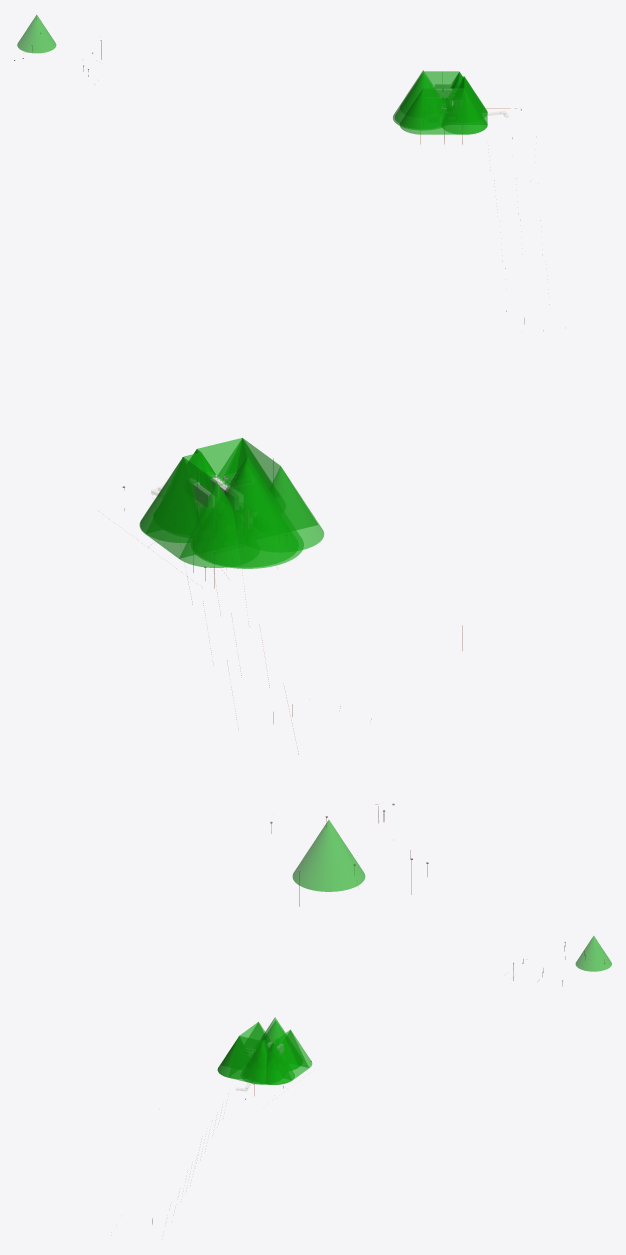
The picture shows the model from 3 angles, top to bottom: view 1: azimuth 30°, elevation 25°; view 2: azimuth 150°, elevation 25°; view 3: azimuth 270°, elevation 25°; orthographic projection. The views are drawn at different scales.
Parts seen in each view (by area): view 1: 1tFpAojzP2WfqB6u0kBTyU, 1albLpCDz668fCfX9H6x0C, 1tFpAojzP2WfqB6u0kBTZu, 0LncxTrCT71Og$vbJJ$8cW, 1tFpAojzP2WfqB6u0kBTY$; view 2: 1tFpAojzP2WfqB6u0kBTY$, 1albLpCDz668fCfX9H6x0C, 1tFpAojzP2WfqB6u0kBTyU, 1tFpAojzP2WfqB6u0kBTuD, 1tFpAojzP2WfqB6u0kBTYg, 0LncxTrCT71Og$vbJJ$8cW, 1tFpAojzP2WfqB6u0kBTZu; view 3: 1tFpAojzP2WfqB6u0kBTZu, 1tFpAojzP2WfqB6u0kBTY$, 1tFpAojzP2WfqB6u0kBTyU, 1tFpAojzP2WfqB6u0kBTYg, 0LncxTrCT71Og$vbJJ$8cW, 1tFpAojzP2WfqB6u0kBTZ5, 1albLpCDz668fCfX9H6x0C.
Boxes of the visible parts, x1,y1,x2,y2 form: 1tFpAojzP2WfqB6u0kBTyU: [399, 88, 487, 134]; 1albLpCDz668fCfX9H6x0C: [393, 70, 445, 130]; 1tFpAojzP2WfqB6u0kBTZu: [441, 76, 487, 134]; 0LncxTrCT71Og$vbJJ$8cW: [17, 14, 56, 53]; 1tFpAojzP2WfqB6u0kBTY$: [400, 71, 461, 106]; 1tFpAojzP2WfqB6u0kBTY$: [139, 457, 243, 567]; 1albLpCDz668fCfX9H6x0C: [197, 456, 303, 568]; 1tFpAojzP2WfqB6u0kBTyU: [218, 438, 323, 551]; 1tFpAojzP2WfqB6u0kBTuD: [225, 463, 296, 567]; 1tFpAojzP2WfqB6u0kBTYg: [140, 452, 217, 542]; 0LncxTrCT71Og$vbJJ$8cW: [292, 820, 365, 891]; 1tFpAojzP2WfqB6u0kBTZu: [189, 438, 271, 488]; 1tFpAojzP2WfqB6u0kBTZu: [217, 1036, 267, 1084]; 1tFpAojzP2WfqB6u0kBTY$: [265, 1029, 312, 1084]; 1tFpAojzP2WfqB6u0kBTyU: [217, 1022, 265, 1078]; 1tFpAojzP2WfqB6u0kBTYg: [263, 1040, 294, 1084]; 0LncxTrCT71Og$vbJJ$8cW: [575, 936, 611, 971]; 1tFpAojzP2WfqB6u0kBTZ5: [242, 1040, 268, 1084]; 1albLpCDz668fCfX9H6x0C: [260, 1017, 299, 1069].
Bounding box in the file's own units: 114 × 66.43 × 186.
